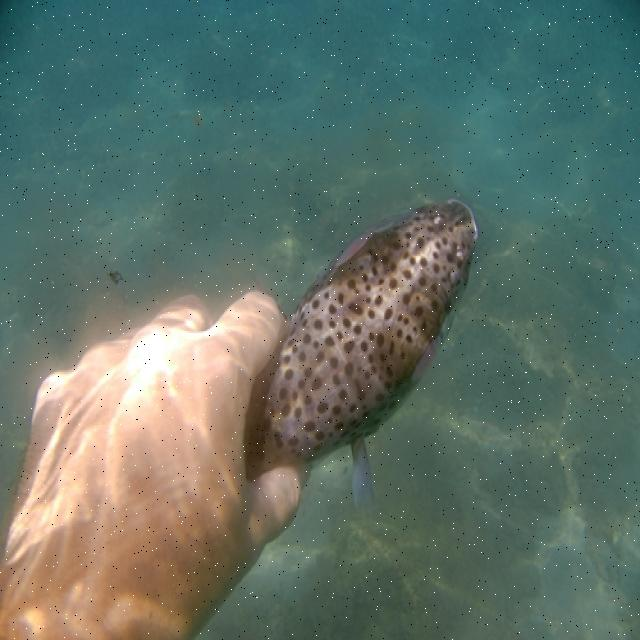Balik: (245, 200, 477, 505)
